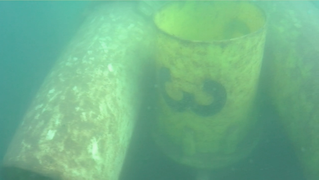3: (158, 66, 227, 117)
pipe: (1, 1, 169, 179), (151, 1, 268, 171), (251, 1, 317, 179)
